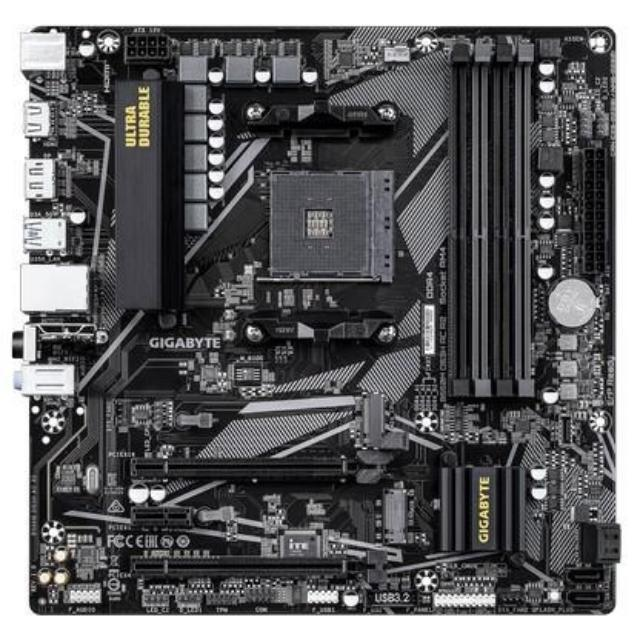Mainboard: (6, 10, 628, 627)
